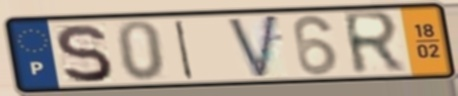0: (114, 18, 171, 85)
6: (289, 13, 344, 78)
I: (173, 18, 197, 82)
R: (339, 8, 409, 79)
S: (52, 22, 116, 86)
V: (224, 12, 282, 82)
